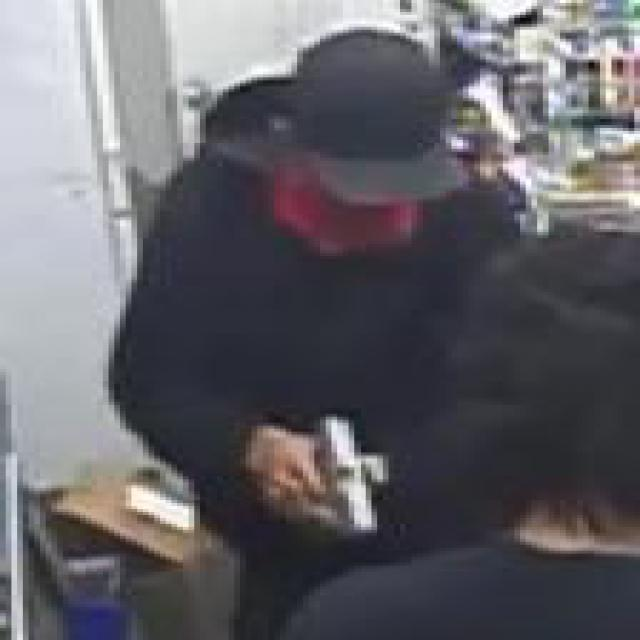Gun: (268, 411, 378, 533)
